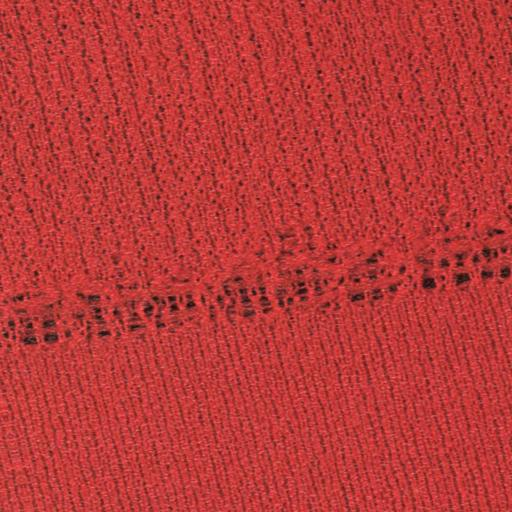slub: (1, 219, 512, 359)
